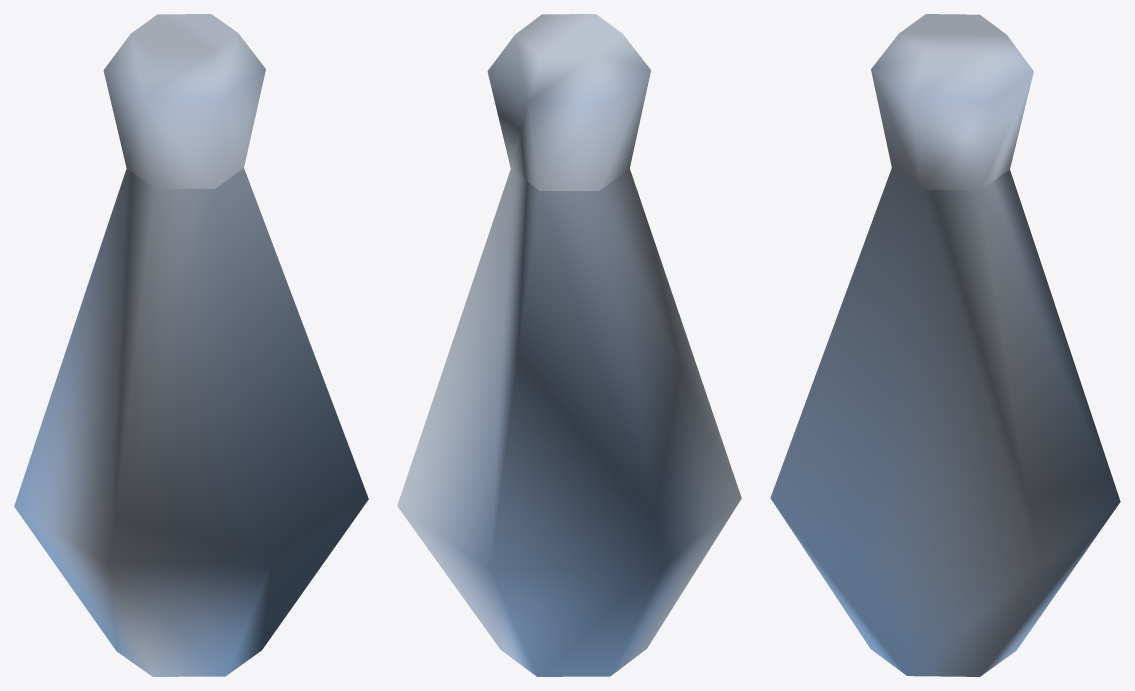
Rendered from ccha.hrc.gltf.
The picture shows the model from 3 angles, left to right: view 1: azimuth 30°, elevation 25°; view 2: azimuth 150°, elevation 25°; view 3: azimuth 270°, elevation 25°; orthographic projection.
Parts seen in each view (by area): view 1: cchaBone0_null; view 2: cchaBone0_null; view 3: cchaBone0_null.
Boxes of the visible parts, x1,y1,x2,y2 form: cchaBone0_null: (14, 14, 368, 676); cchaBone0_null: (397, 14, 741, 676); cchaBone0_null: (770, 14, 1120, 676).
Bounding box in the file's own units: 6.23 × 13.5 × 6.94.
